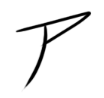a: (13, 8, 92, 93)
